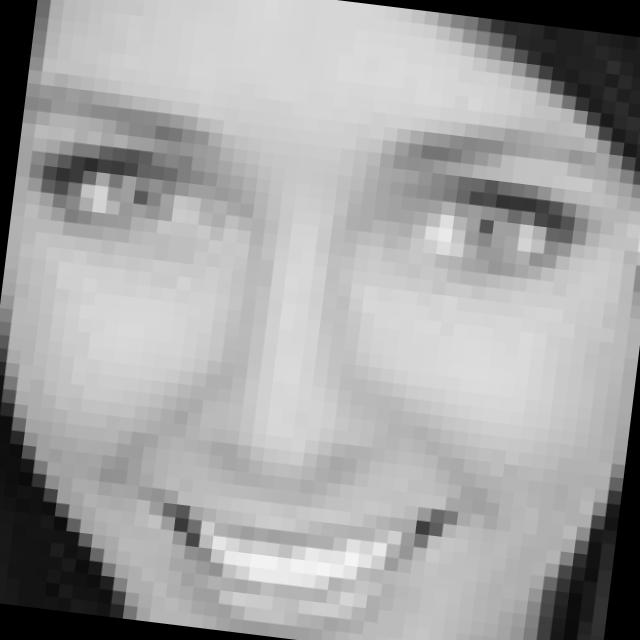happy: (0, 67, 622, 640)
